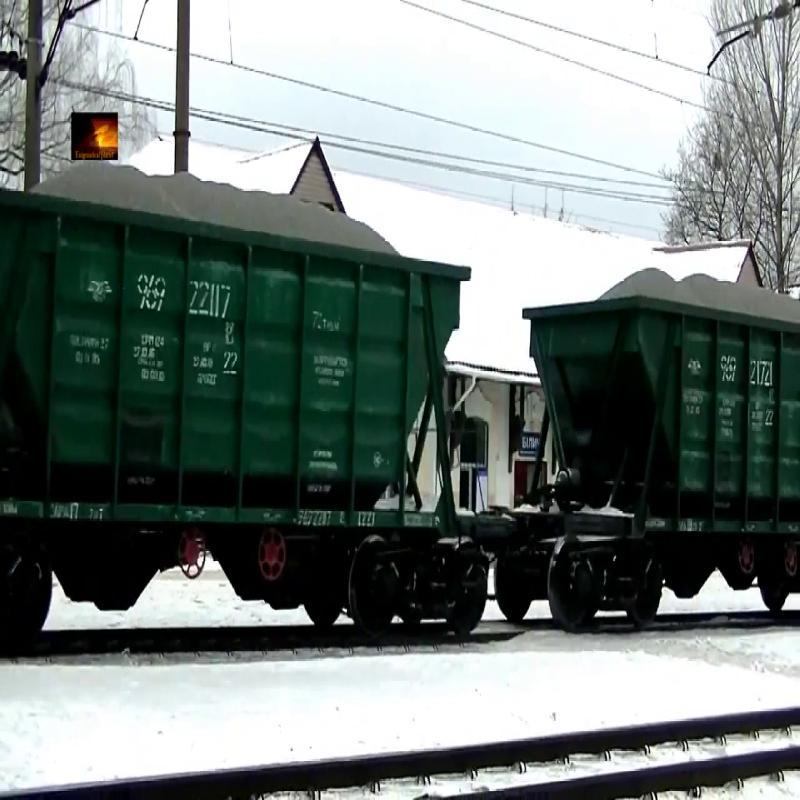train: (1, 161, 479, 653), (526, 232, 798, 641)
